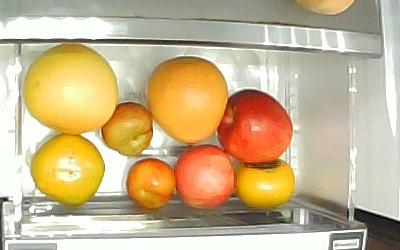apple: (217, 89, 293, 163), (175, 145, 235, 210)
grapefruit: (23, 44, 118, 133), (147, 56, 229, 143)
persimmon: (30, 133, 105, 205), (235, 158, 295, 210)
prune: (100, 102, 154, 157), (126, 158, 175, 209)
